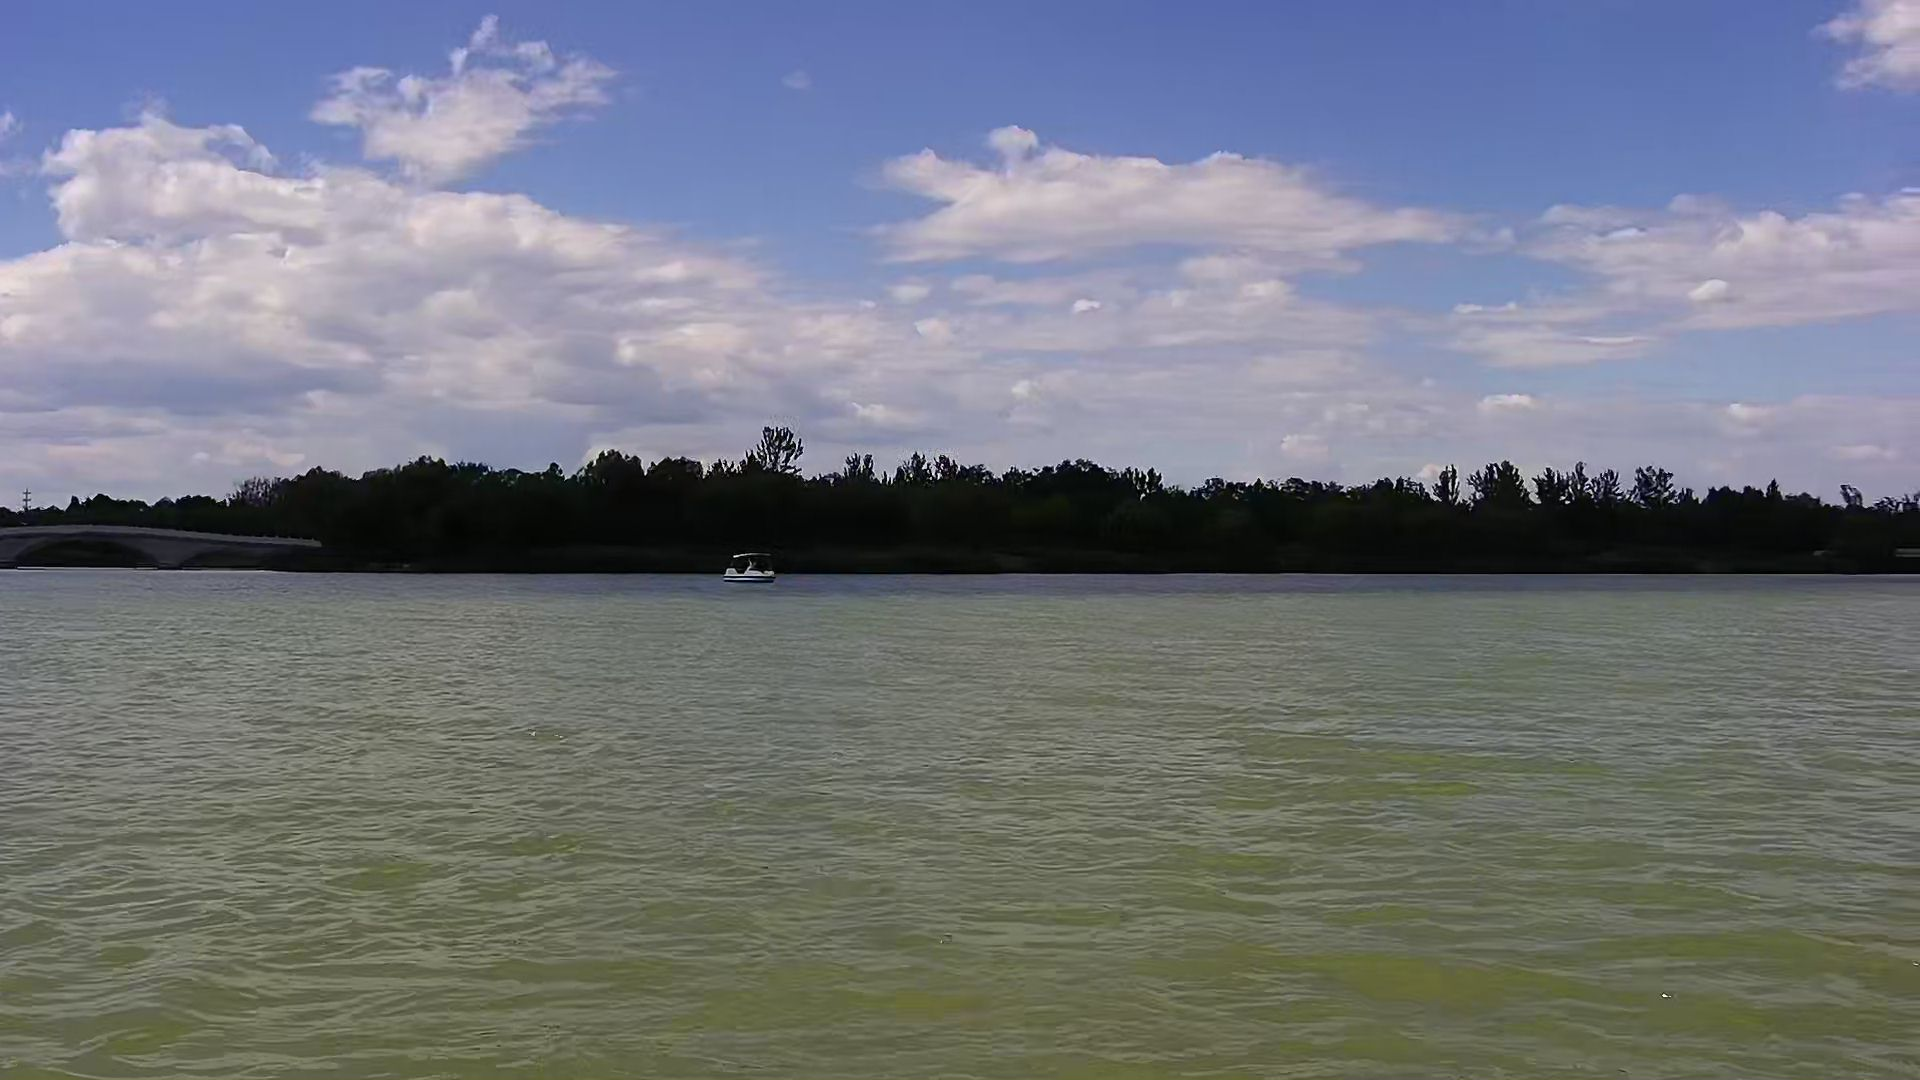boat: (715, 545, 782, 588)
bridge: (1, 520, 334, 572)
